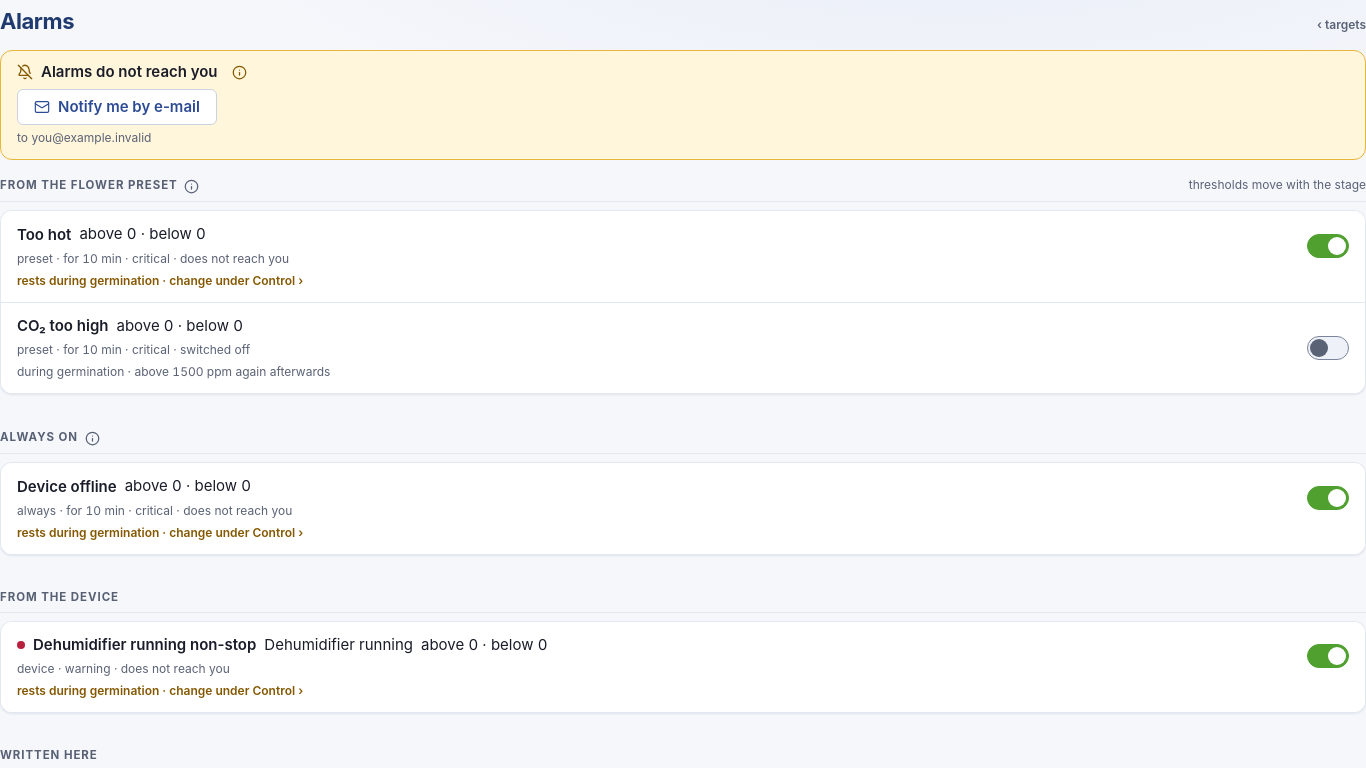
Test: the rule sheet › asks the offline rule none of the questions it has no answer to, and saves it
Click the button "Device offline" at (67, 486), box [17, 475, 1295, 520]
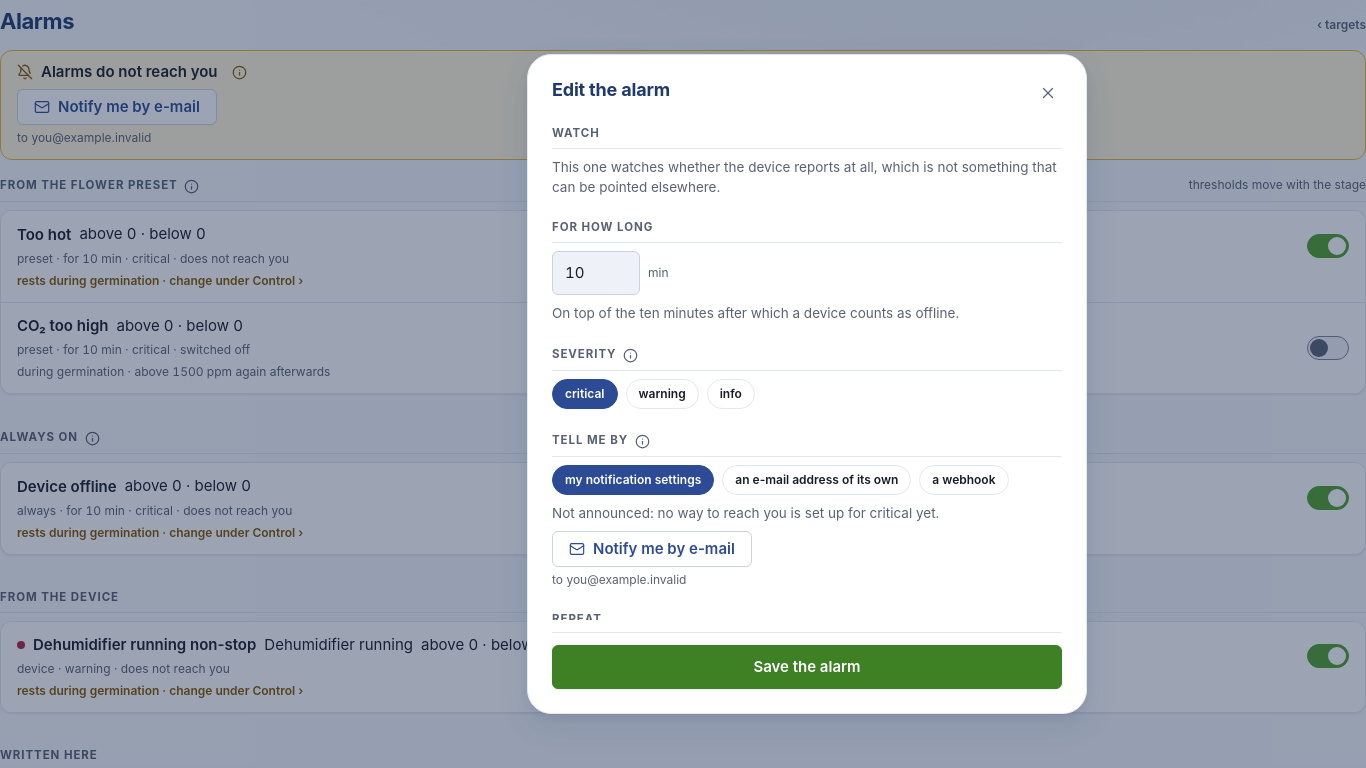
expect the text "watches whether the device reports at all" is shown: met, box [552, 159, 1057, 195]
expect the text "On top of the ten minutes" is shown: met, box [552, 305, 959, 321]
Click the button "Save the alarm" at (807, 667), box [552, 645, 1062, 689]
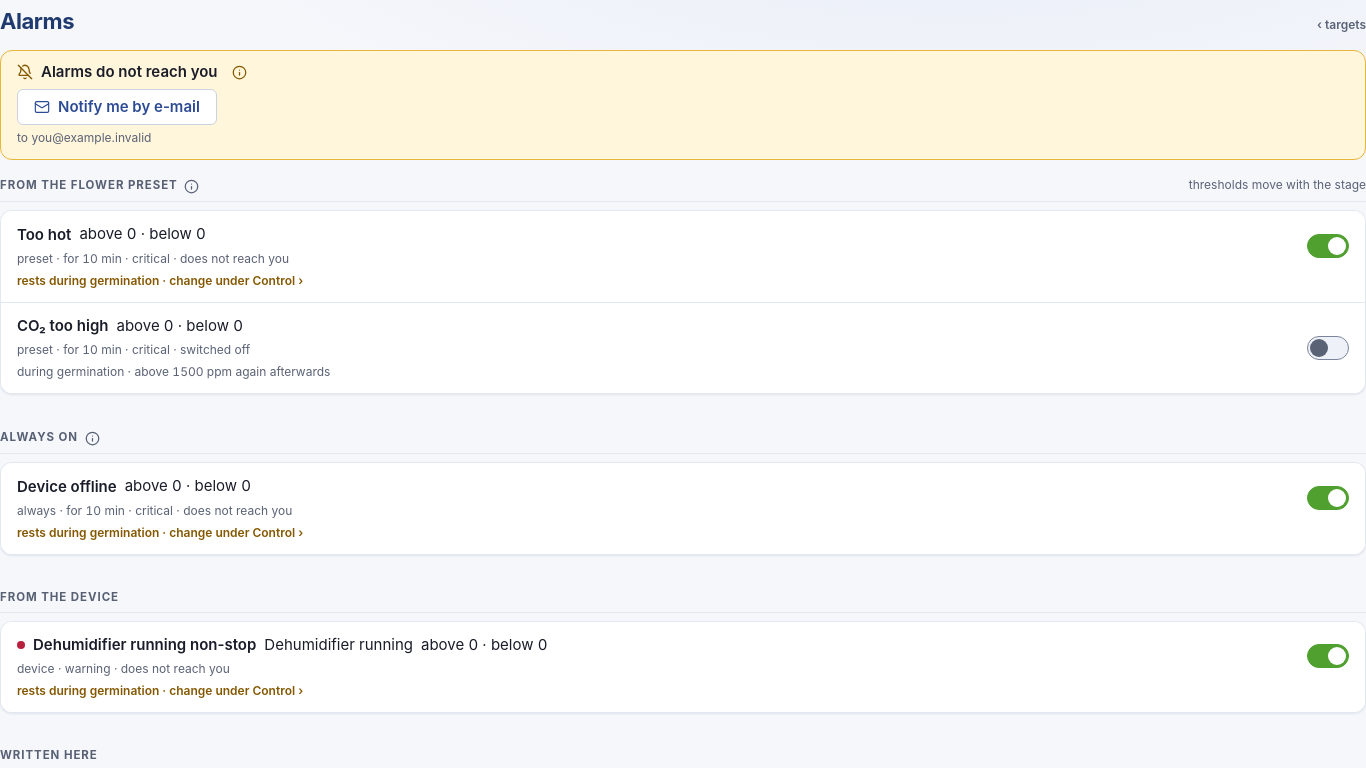
expect the dialog is gone: met
